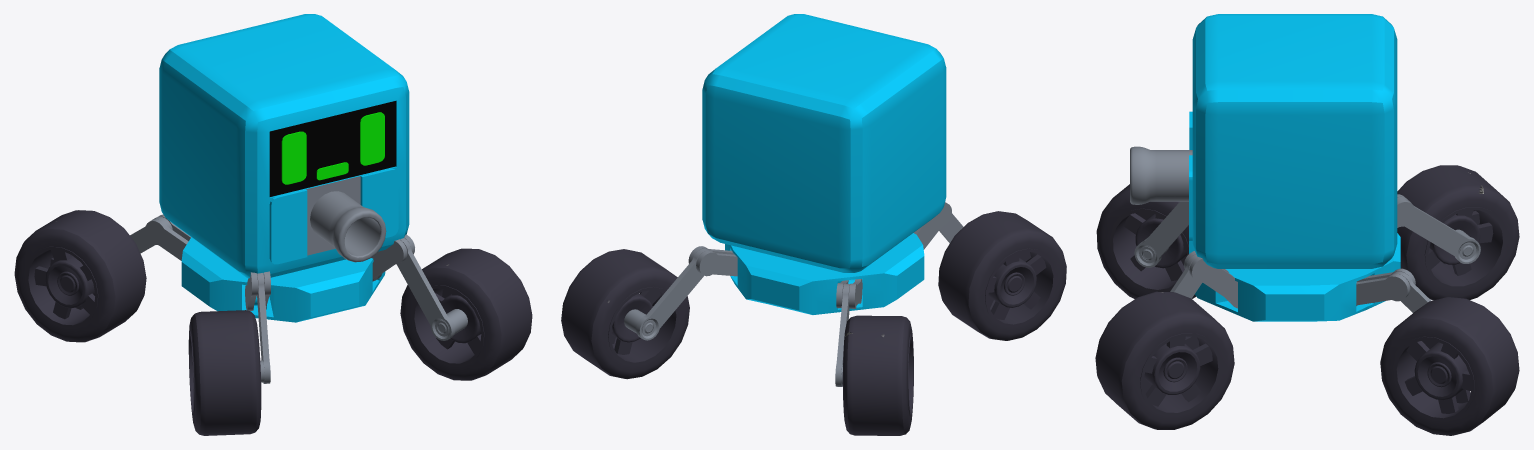
Rendered from Tank3.fbx.
The picture shows the model from 3 angles, left to right: view 1: azimuth 30°, elevation 25°; view 2: azimuth 150°, elevation 25°; view 3: azimuth 270°, elevation 25°; orthographic projection. The views are drawn at different scales.
Parts seen in each view (by area): view 1: face6; view 2: face6; view 3: face6.
Boxes of the visible parts, x1,y1,x2,y2 form: face6: (14, 14, 532, 435); face6: (561, 14, 1066, 435); face6: (1095, 14, 1519, 435).
Bounding box in the file's own units: 60.38 × 48.77 × 60.31.
